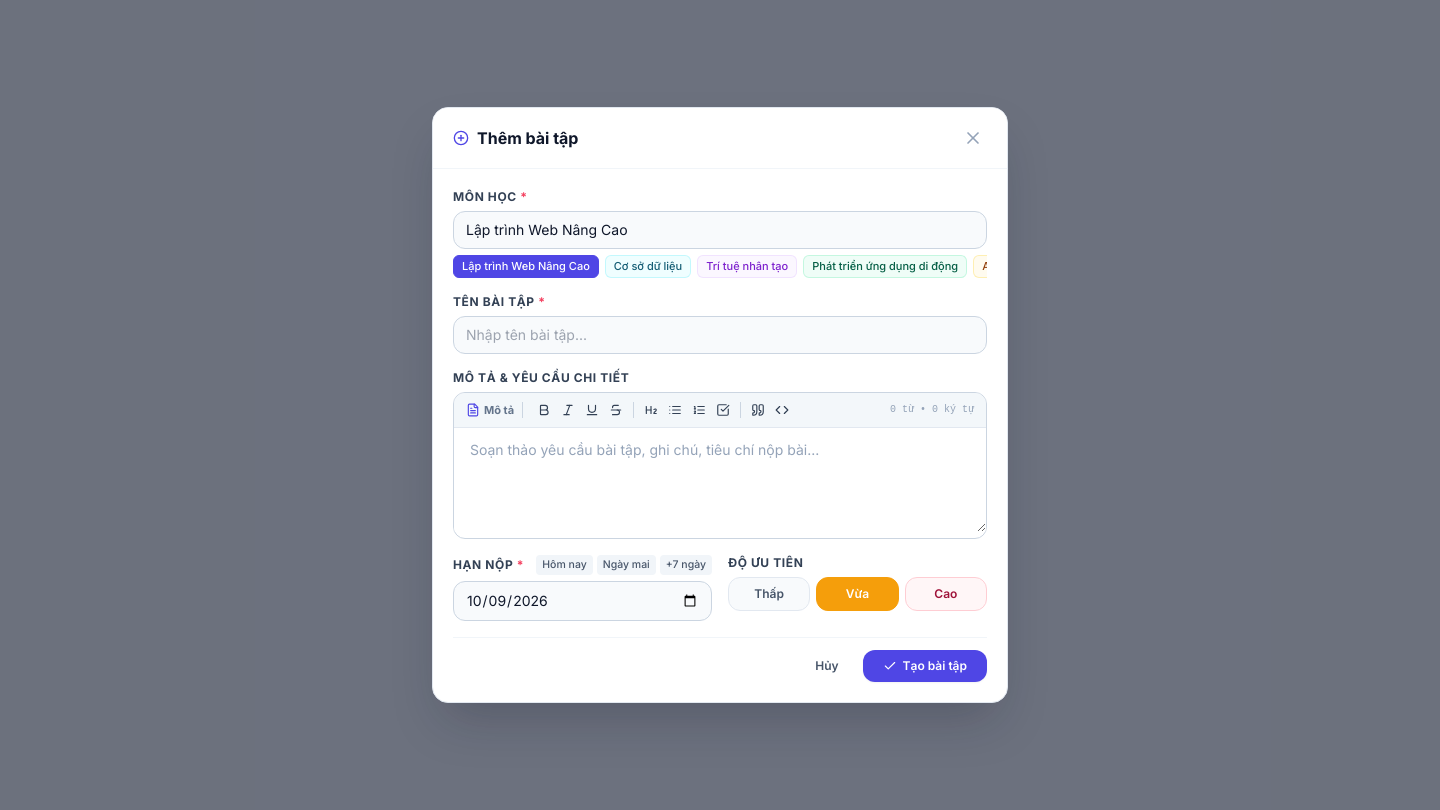
it: Component Tests: AssignmentFormDialog (RTL + userEvent) › hiển thị thông báo validate lỗi khi để trống trường bắt buộc và submit
The image size is (1440, 810).
# Xóa trắng trường môn học để kích hoạt validate
Clear the field with placeholder "Nhập môn học...": [720, 230] box x1=453 y1=211 x2=987 y2=249
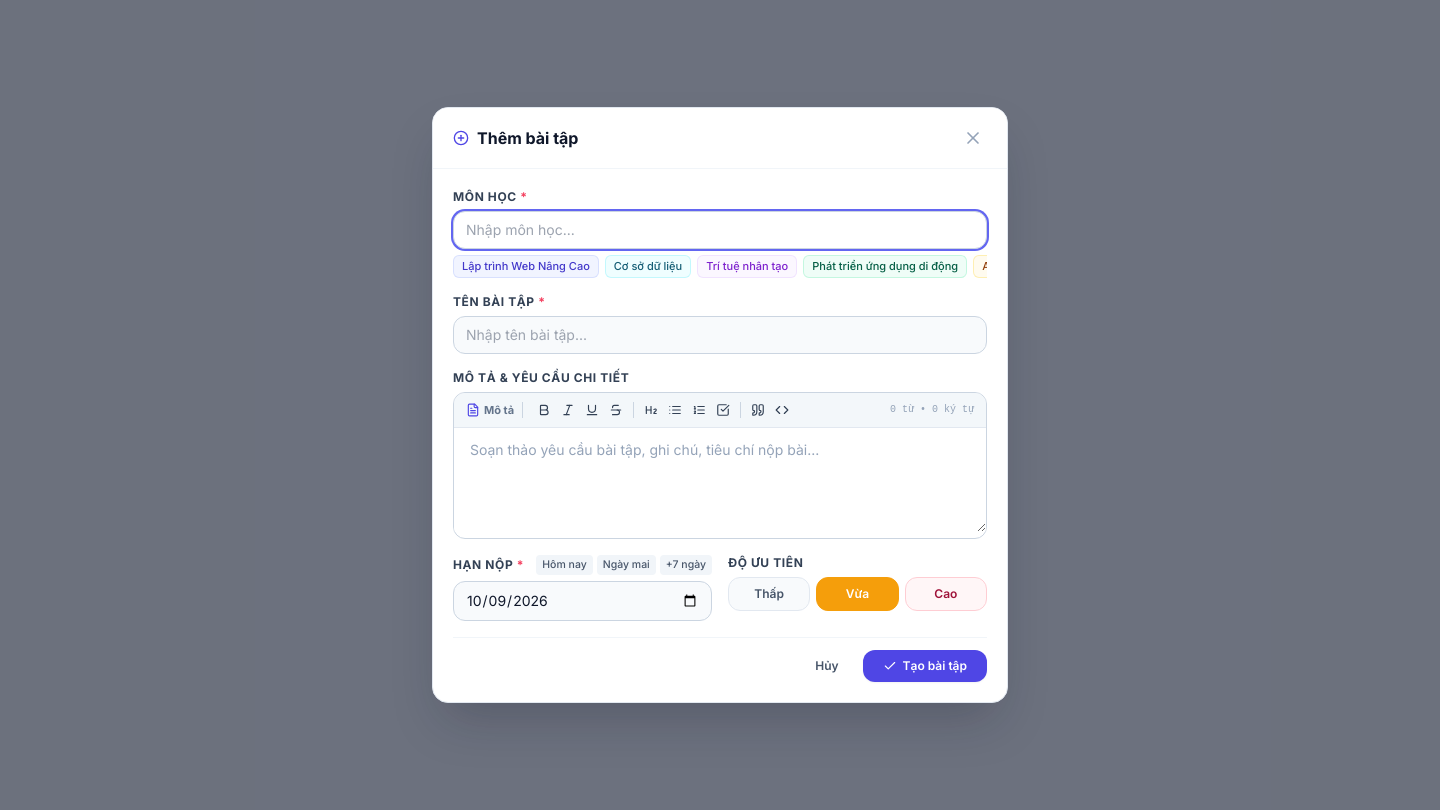
# Để trống tên bài tập
Clear the field with placeholder "Nhập tên bài tập...": [720, 335] box x1=453 y1=316 x2=987 y2=354
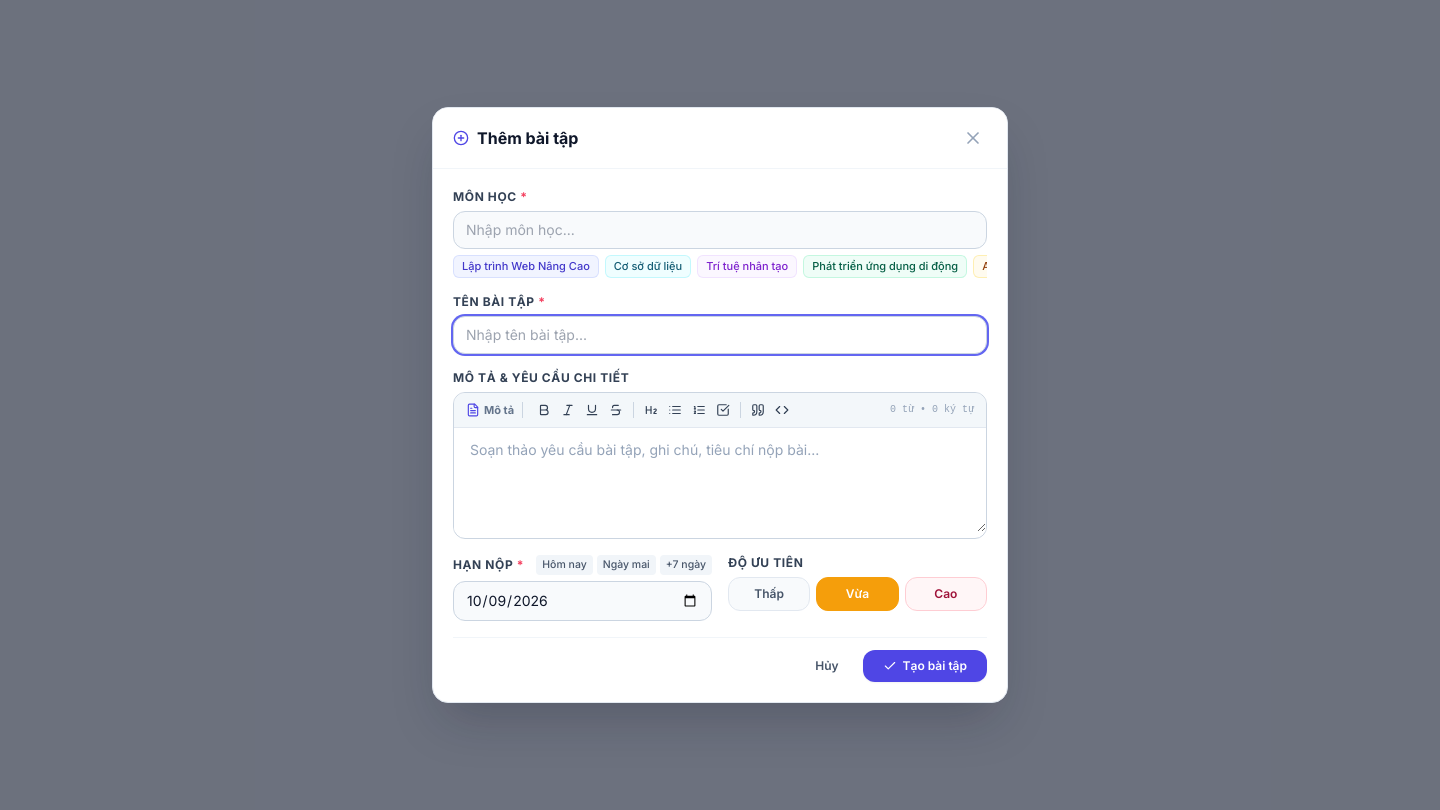
# Click submit
Click the button "Tạo bài tập": [925, 666] box x1=863 y1=650 x2=987 y2=682
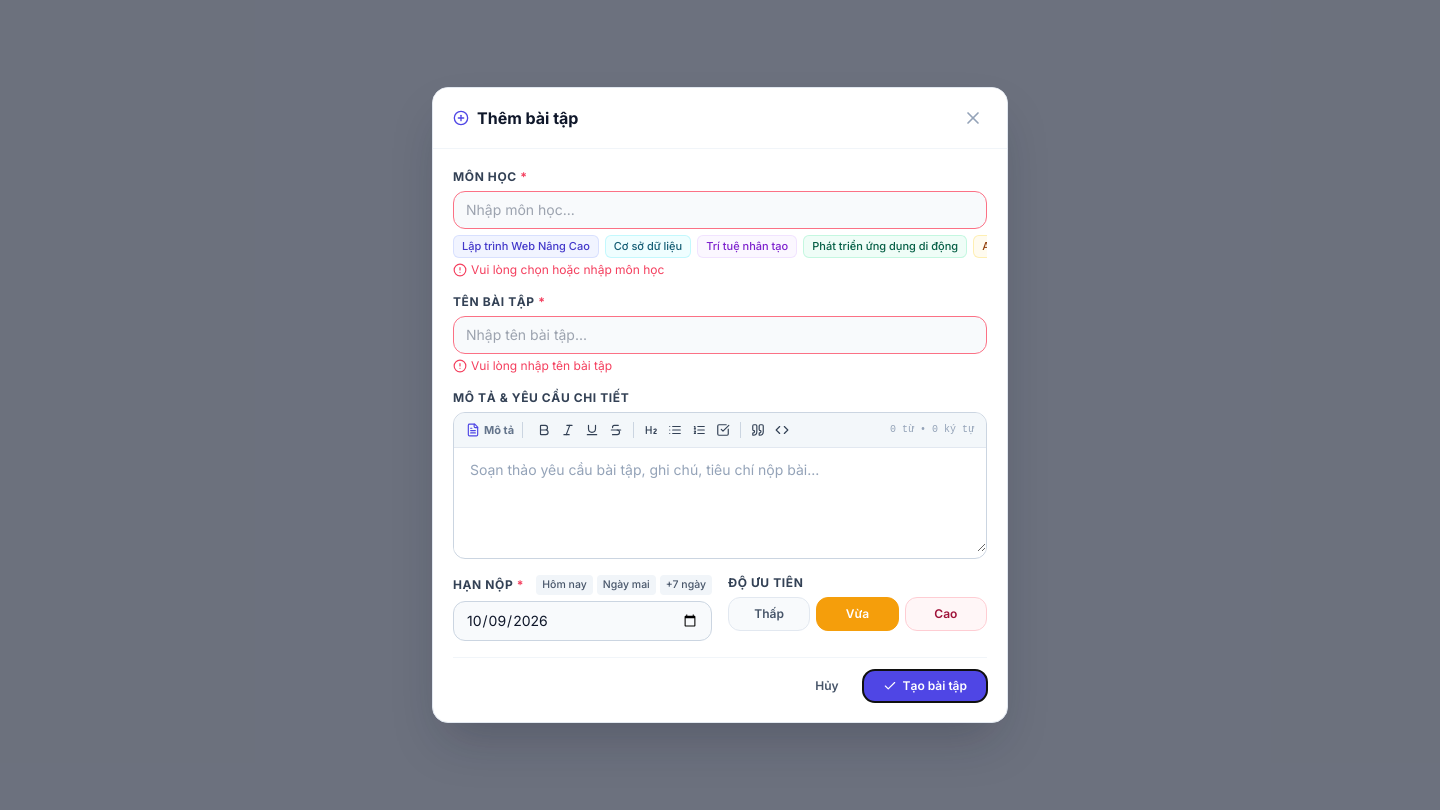
expect the text "Vui lòng chọn hoặc nhập môn học" is shown: met, box x1=453 y1=262 x2=664 y2=277
expect the text "Vui lòng nhập tên bài tập" is shown: met, box x1=453 y1=358 x2=612 y2=373
